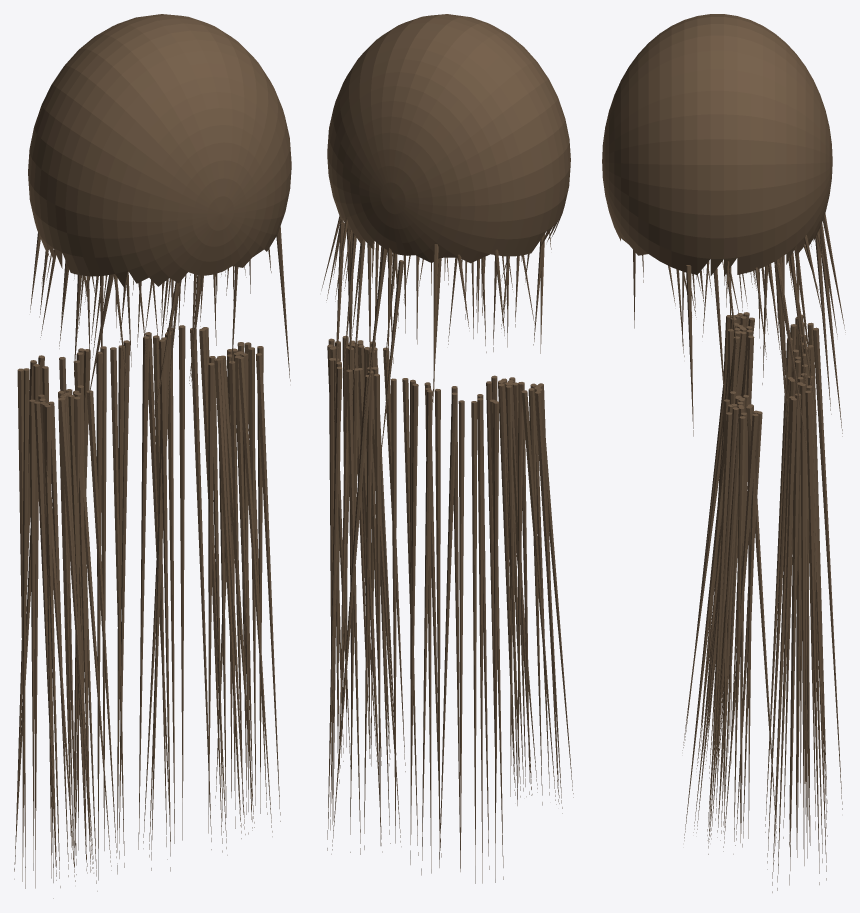
File: long_straight.glb
The picture shows the model from 3 angles, left to right: view 1: azimuth 30°, elevation 25°; view 2: azimuth 150°, elevation 25°; view 3: azimuth 270°, elevation 25°; orthographic projection. The views are drawn at different scales.
Parts seen in each view (by area): view 1: part_000, part_145, part_144, part_154, part_147, part_158, part_160, part_114, part_124, part_111, part_092, part_146 (+45 smaller); view 2: part_000, part_157, part_152, part_154, part_136, part_145, part_148, part_143, part_159, part_162, part_149, part_151 (+45 smaller); view 3: part_000, part_156, part_154, part_148, part_155, part_147, part_129, part_134, part_133, part_144, part_125, part_141 (+33 smaller).
Part boxes in pixels (x1,y1,x2,y2): part_000: [28, 14, 291, 287]; part_145: [138, 336, 149, 849]; part_144: [159, 339, 170, 871]; part_154: [179, 325, 185, 840]; part_147: [190, 328, 211, 849]; part_158: [22, 368, 29, 881]; part_160: [117, 345, 124, 874]; part_114: [208, 363, 214, 833]; part_124: [238, 356, 272, 836]; part_111: [29, 399, 35, 870]; part_092: [86, 390, 117, 863]; part_146: [110, 347, 124, 867]; part_000: [327, 14, 570, 263]; part_157: [421, 390, 432, 875]; part_152: [471, 401, 477, 883]; part_154: [327, 366, 342, 850]; part_136: [410, 383, 418, 864]; part_145: [374, 374, 380, 845]; part_148: [458, 400, 464, 871]; part_143: [331, 375, 371, 854]; part_159: [439, 392, 457, 867]; part_162: [493, 401, 499, 882]; part_149: [390, 378, 396, 843]; part_151: [435, 389, 440, 865]; part_000: [602, 14, 832, 276]; part_156: [777, 398, 796, 890]; part_154: [805, 390, 819, 884]; part_148: [812, 327, 842, 809]; part_155: [800, 383, 805, 865]; part_147: [789, 393, 801, 885]; part_129: [708, 412, 732, 854]; part_134: [733, 416, 745, 854]; part_133: [723, 413, 758, 851]; part_144: [767, 377, 793, 869]; part_125: [711, 405, 743, 839]; part_141: [772, 396, 795, 892].
Size of the model in its own units: 0.2177 by 0.7548 by 0.2009.
